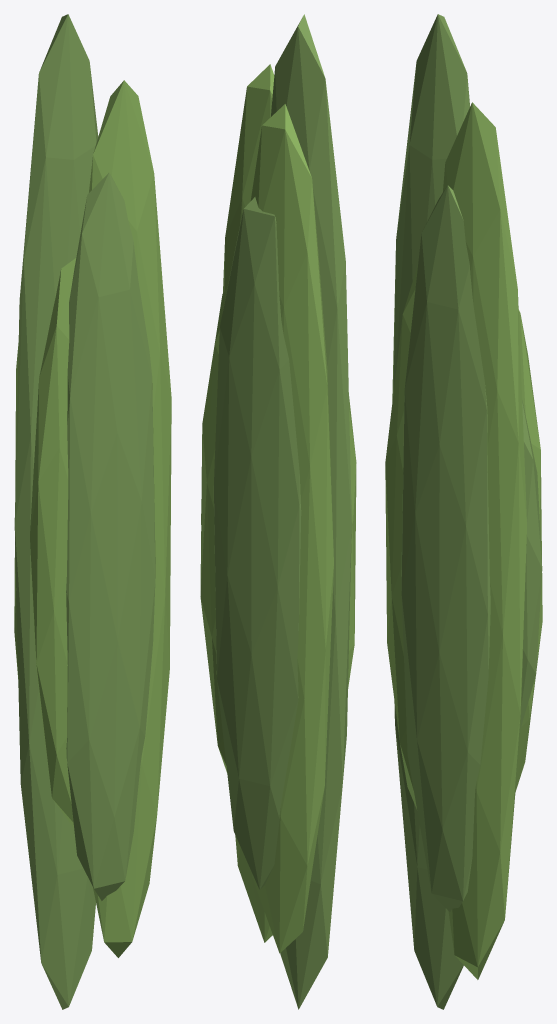
The model's file is agave-desmetiana.glb.
3 renders of one model, left to right at view 1: azimuth 30°, elevation 25°; view 2: azimuth 150°, elevation 25°; view 3: azimuth 330°, elevation 25°, orthographic.
Visible parts, largest first — view 1: blade2, blade4, blade1, blade3, blade5; view 2: blade6, blade5, blade4, blade1, blade7, blade3; view 3: blade2, blade1, blade4, blade3, blade0, blade7.
Part boxes in pixels (bbox=[...]): blade2: bbox=[66, 172, 155, 900]; blade4: bbox=[14, 14, 98, 1009]; blade1: bbox=[89, 80, 171, 957]; blade3: bbox=[30, 258, 76, 827]; blade5: bbox=[14, 343, 18, 678]; blade6: bbox=[213, 197, 301, 889]; blade5: bbox=[250, 104, 333, 953]; blade4: bbox=[271, 14, 351, 1009]; blade1: bbox=[223, 64, 274, 942]; blade7: bbox=[200, 288, 227, 772]; blade3: bbox=[348, 396, 356, 688]; blade2: bbox=[401, 185, 490, 911]; blade1: bbox=[443, 102, 526, 979]; blade4: bbox=[392, 14, 469, 1009]; blade3: bbox=[385, 265, 417, 809]; blade0: bbox=[520, 400, 542, 728]; blade7: bbox=[515, 309, 542, 792].
Bounding box in the file's own units: 0.09 × 0.5649 × 0.0533.
